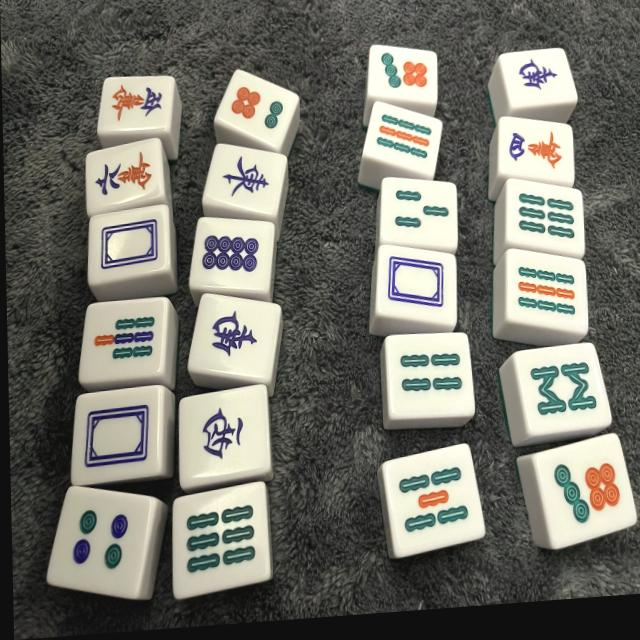bai: (70, 384, 162, 484), (375, 239, 456, 329), (90, 208, 168, 279)
east: (202, 139, 289, 222)
m4: (496, 112, 573, 189)
m5: (84, 140, 160, 211), (97, 73, 174, 133)
s3: (382, 174, 458, 256)
s4: (387, 330, 474, 421)
s5: (382, 446, 485, 562)
s6: (171, 484, 267, 601), (506, 175, 582, 254)
s7: (76, 299, 165, 384)
s8: (513, 343, 608, 436)
s9: (506, 248, 586, 339), (361, 98, 441, 180)
south: (184, 287, 281, 386), (498, 46, 576, 107)
t4: (40, 482, 151, 609)
t6: (214, 65, 301, 155)
t7: (533, 434, 639, 555), (365, 40, 436, 108)
t8: (186, 213, 274, 300)
west: (176, 384, 270, 483)
